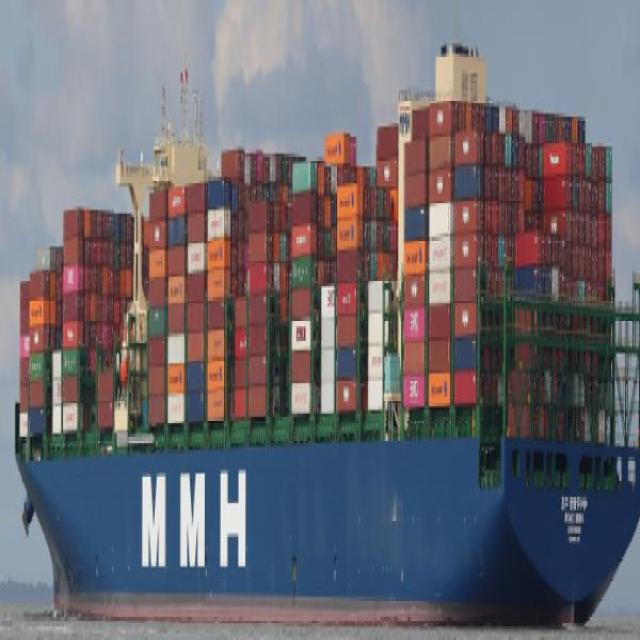Container Ship: (11, 30, 637, 624)
